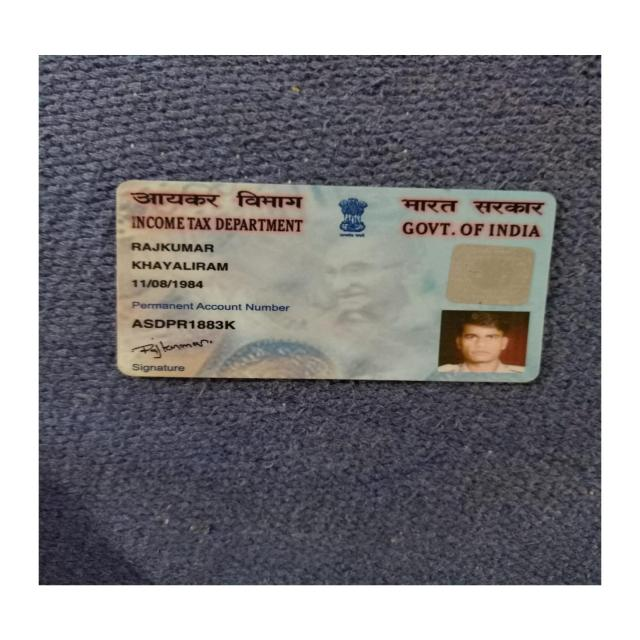pan_card: (112, 177, 558, 384)
